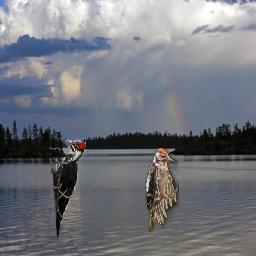Woodpecker: (52, 138, 87, 243), (145, 148, 179, 232)
